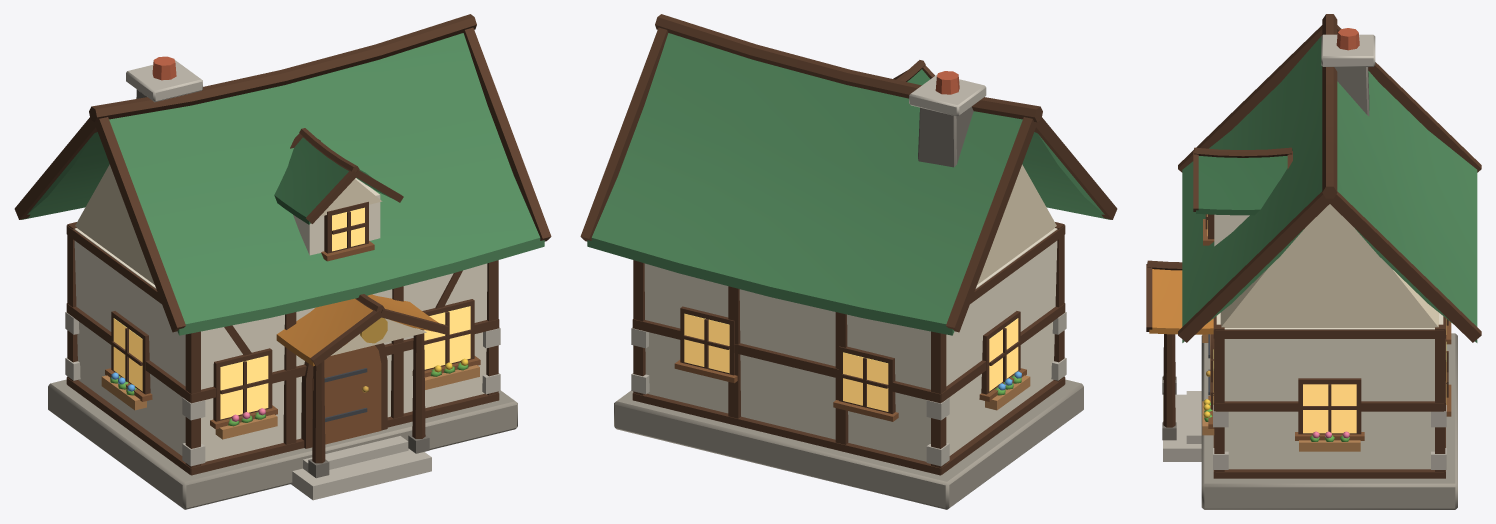
Rendered from guild-hall.glb.
3 views of the same model, side by side, from view 1: azimuth 30°, elevation 25°; view 2: azimuth 150°, elevation 25°; view 3: azimuth 270°, elevation 25° (orthographic). The views are drawn at different scales.
Visible parts, largest first — view 1: MainRoof_Shell, Part_TimberDark, Part_Plaster, Plinth, Part_StoneLight, Part_WindowGlow, Part_WoodWarm, Part_PlasterWarm, PorchRoof_Shell, DormerRoof_Shell, Part_WoodLight, Part_StoneDark; view 2: MainRoof_Shell, Part_Plaster, Part_TimberDark, Plinth, Part_WindowGlow, Part_StoneLight, Part_PlasterWarm, Part_StoneDark, Part_WoodWarm; view 3: MainRoof_Shell, Part_TimberDark, Part_Plaster, Part_PlasterWarm, Plinth, Part_StoneLight, DormerRoof_Shell, Part_WindowGlow, PorchRoof_Shell, Part_StoneDark, Part_WoodWarm, Part_WoodLight (+1 smaller).
Boxes of the visible parts, x1,y1,x2,y2 form: MainRoof_Shell: (21,33,544,335); Part_TimberDark: (14,14,551,475); Part_Plaster: (74,178,487,461); Plinth: (48,379,517,509); Part_StoneLight: (65,60,500,500); Part_WindowGlow: (113,207,470,419); Part_WoodWarm: (105,241,480,444); Part_PlasterWarm: (75,164,426,355); PorchRoof_Shell: (276,294,438,366); DormerRoof_Shell: (274,137,392,224); Part_WoodLight: (101,365,479,439); Part_StoneDark: (136,89,429,478); MainRoof_Shell: (587,33,1110,335); Part_Plaster: (644,228,1057,461); Part_TimberDark: (580,14,1117,475); Plinth: (614,379,1083,509); Part_WindowGlow: (684,313,1018,411); Part_StoneLight: (631,74,1066,466); Part_PlasterWarm: (977,164,1056,284); Part_StoneDark: (918,106,973,167); Part_WoodWarm: (674,360,1026,421); MainRoof_Shell: (1182,36,1477,342); Part_TimberDark: (1146,14,1481,478); Part_Plaster: (1214,214,1443,469); Part_PlasterWarm: (1220,204,1438,327); Plinth: (1201,333,1457,509); Part_StoneLight: (1163,34,1446,469); DormerRoof_Shell: (1196,156,1287,215); Part_WindowGlow: (1207,214,1446,433); PorchRoof_Shell: (1149,269,1213,334); Part_StoneDark: (1162,67,1369,440); Part_WoodWarm: (1203,219,1451,440); Part_WoodLight: (1202,334,1360,451).
Size of the model in its own units: 6.24 by 5.93 by 5.11.
